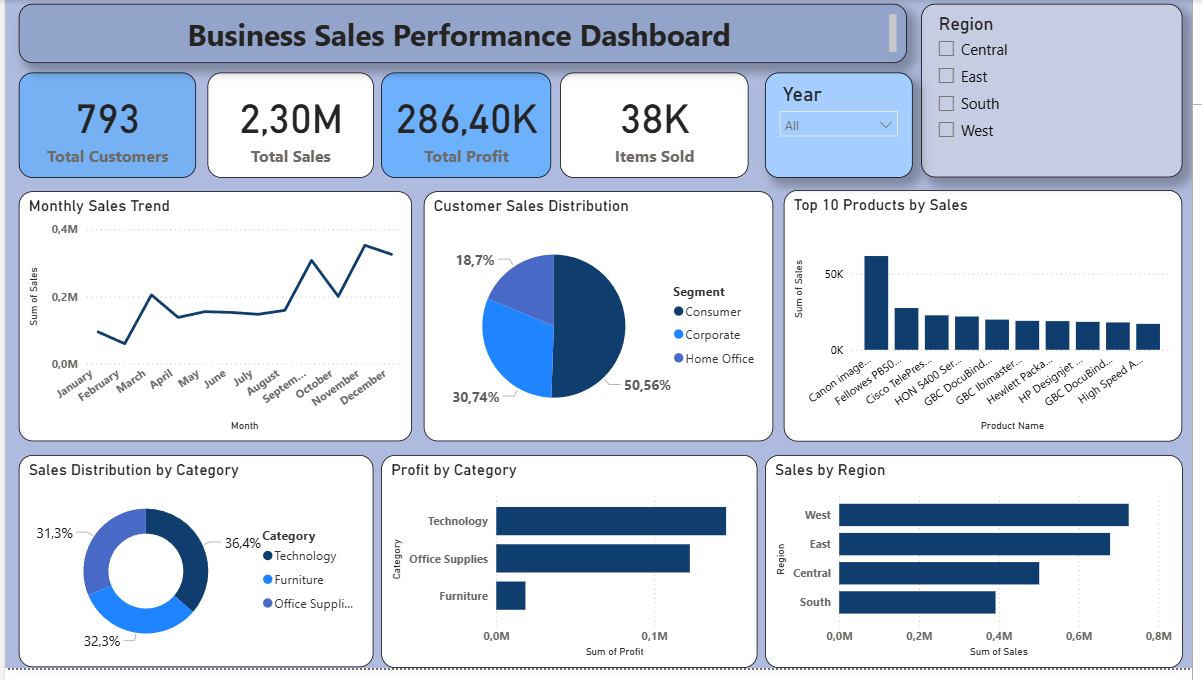

The page's visual inventory and layout, read from the dashboard file:
{"tool":"powerbi","page":{"name":"Page 1","canvas":[1280,720],"ordinal":0},"visuals":[{"type":"card","fields":{"Values":["Sum(SalesData.Sales)"]},"box":[218.3,78.2,179.2,113.2],"z":0},{"type":"card","fields":{"Values":["Sum(SalesData.Profit)"]},"box":[405.6,78.2,183.3,113.2],"z":1000},{"type":"card","fields":{"Values":["Sum(SalesData.Quantity)"]},"box":[598.4,78.2,203.5,113.2],"z":2000},{"type":"lineChart","title":"Monthly Sales Trend","fields":{"Y":["Sum(SalesData.Sales)"],"Category":["SalesData.Order Date.Variation.Date Hierarchy.Month"]},"box":[14.7,206.3,424.3,269.6],"z":3000},{"type":"donutChart","title":"Sales Distribution by Category","fields":{"Category":["SalesData.Category"],"Y":["Sum(SalesData.Sales)"]},"box":[14.8,490.5,390.8,229.1],"z":4000},{"type":"barChart","title":"Sales by Region","fields":{"Category":["SalesData.Region"],"Y":["Sum(SalesData.Sales)"]},"box":[819.2,491,450,229.2],"z":5000},{"type":"clusteredColumnChart","title":"Top 10 Products by Sales","fields":{"Category":["SalesData.Product Name"],"Y":["Sum(SalesData.Sales)"]},"box":[839.6,204.8,429.9,270.9],"z":6000},{"type":"barChart","title":"Profit by Category","fields":{"Category":["SalesData.Category"],"Y":["Sum(SalesData.Profit)"]},"box":[417.8,490.5,393.5,229.1],"z":7000},{"type":"slicer","fields":{"Values":["SalesData.Region"]},"box":[987.8,4,281.7,187.3],"z":8000},{"type":"card","fields":{"Values":["Count(SalesData.Customer Name)"]},"box":[14.8,78.2,191.4,113.2],"z":9000},{"type":"textbox","box":[14.5,3.6,957.9,63.9],"z":10000},{"type":"pieChart","title":"Customer Sales Distribution","fields":{"Category":["SalesData.Segment"],"Y":["Sum(SalesData.Sales)"]},"box":[450.8,206.3,377.2,269.6],"z":11000},{"type":"slicer","fields":{"Values":["SalesData.Order Date.Variation.Date Hierarchy.Year"]},"box":[819.4,78.2,159,113.2],"z":12000}]}

Visuals, with their boxes in screenshot pixels (x1, y1, x2, y2), scaled from the page's 1280x720 canvas onto the 1202x680 screenshot:
card - Sum(SalesData.Sales): bbox=[205, 74, 373, 181]
card - Sum(SalesData.Profit): bbox=[381, 74, 553, 181]
card - Sum(SalesData.Quantity): bbox=[562, 74, 753, 181]
"Monthly Sales Trend" lineChart: bbox=[14, 195, 412, 449]
"Sales Distribution by Category" donutChart: bbox=[14, 463, 381, 679]
"Sales by Region" barChart: bbox=[769, 464, 1192, 679]
"Top 10 Products by Sales" clusteredColumnChart: bbox=[788, 193, 1192, 449]
"Profit by Category" barChart: bbox=[392, 463, 762, 679]
slicer - SalesData.Region: bbox=[928, 4, 1192, 181]
card - Count(SalesData.Customer Name): bbox=[14, 74, 194, 181]
textbox: bbox=[14, 3, 913, 64]
"Customer Sales Distribution" pieChart: bbox=[423, 195, 778, 449]
slicer - SalesData.Order Date.Variation.Date Hierarchy.Year: bbox=[769, 74, 919, 181]
